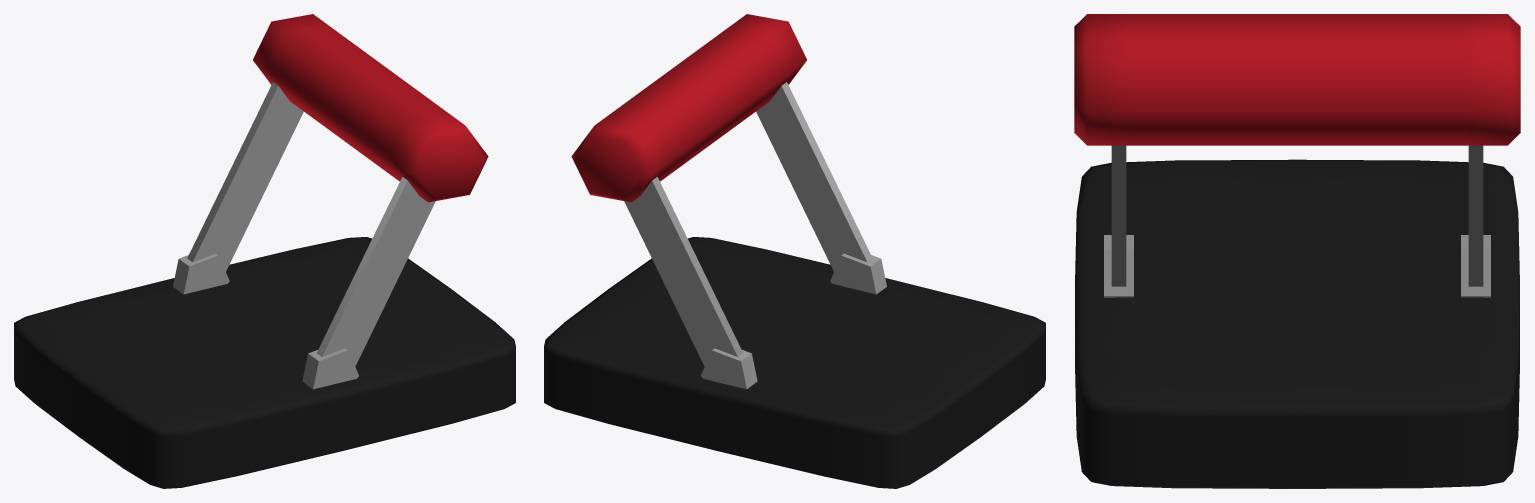
File: button3.fbx
3 views of the same model, side by side, from view 1: azimuth 30°, elevation 25°; view 2: azimuth 150°, elevation 25°; view 3: azimuth 270°, elevation 25° (orthographic). The views are drawn at different scales.
Parts seen in each view (by area): view 1: button3_base, button3_lever; view 2: button3_base, button3_lever; view 3: button3_base, button3_lever.
Boxes of the visible parts, <box> form: button3_base: <box>14,237,515,488</box>; button3_lever: <box>173,14,488,389</box>; button3_base: <box>544,237,1045,488</box>; button3_lever: <box>571,14,886,389</box>; button3_base: <box>1075,159,1519,488</box>; button3_lever: <box>1074,14,1520,297</box>.
Bounding box in the file's own units: 15 × 19.96 × 15.02.
